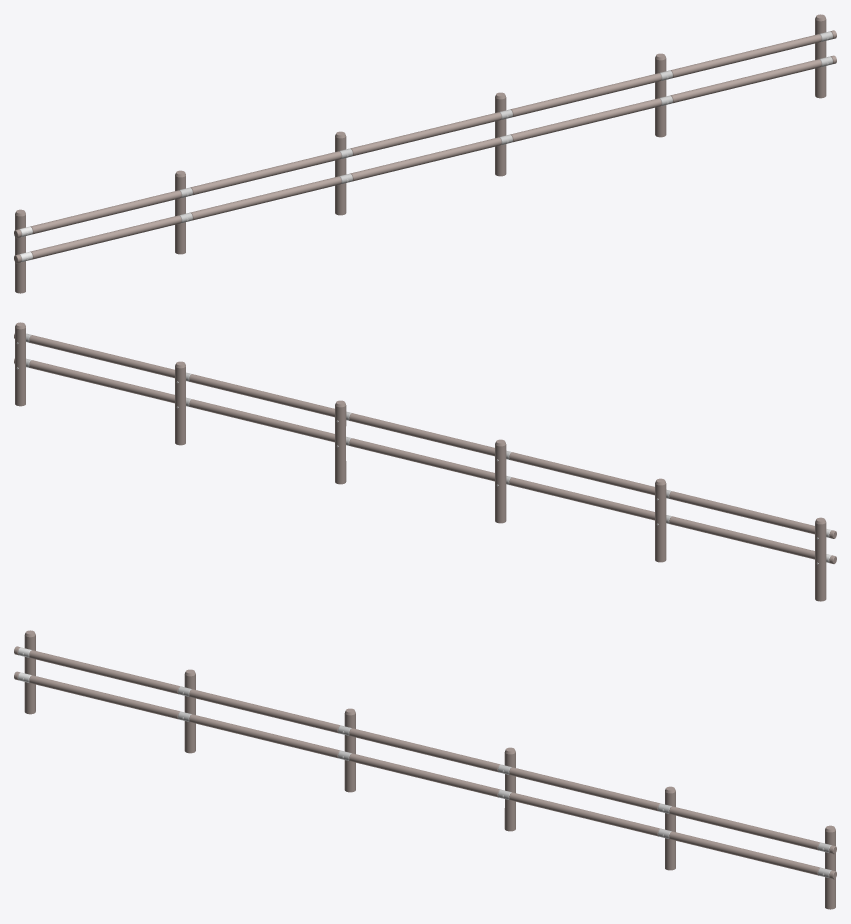
Rendered from 1040_guard_fence_5.glb.
3 views of the same model, one above another, from view 1: azimuth 30°, elevation 25°; view 2: azimuth 150°, elevation 25°; view 3: azimuth 330°, elevation 25° (orthographic).
Parts seen in each view (by area): view 1: Body; view 2: Body; view 3: Body.
Boxes of the visible parts, <box> form: Body: <box>14,14,836,293</box>; Body: <box>14,322,836,601</box>; Body: <box>14,630,836,909</box>.
Size of the model in its own units: 10.24 by 0.95 by 0.2256.
